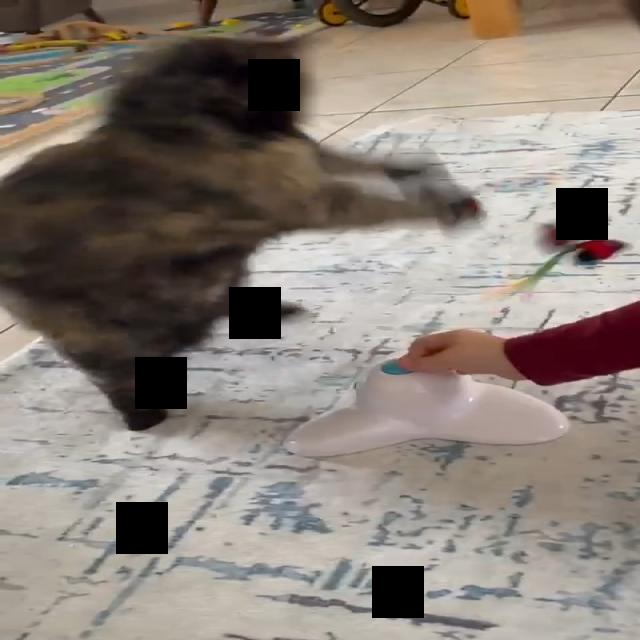authorized: (0, 33, 485, 431)
